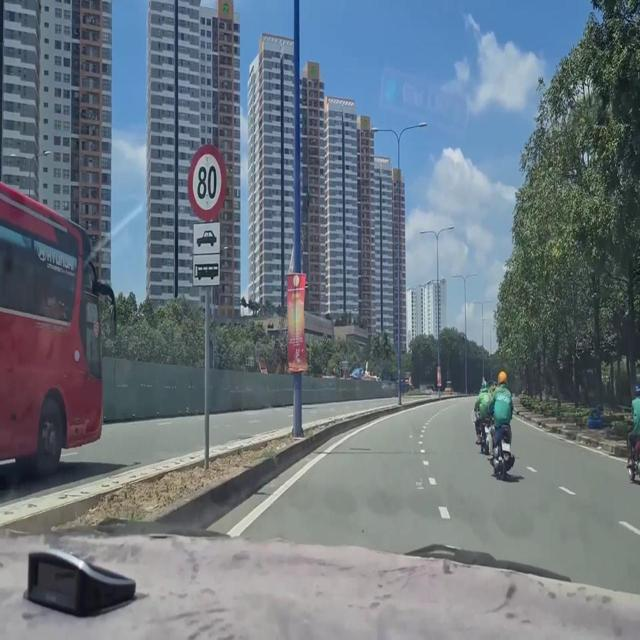Biển phụ: (184, 220, 224, 288)
Giới hạn tốc độ: 80Km/h: (183, 140, 234, 219)
